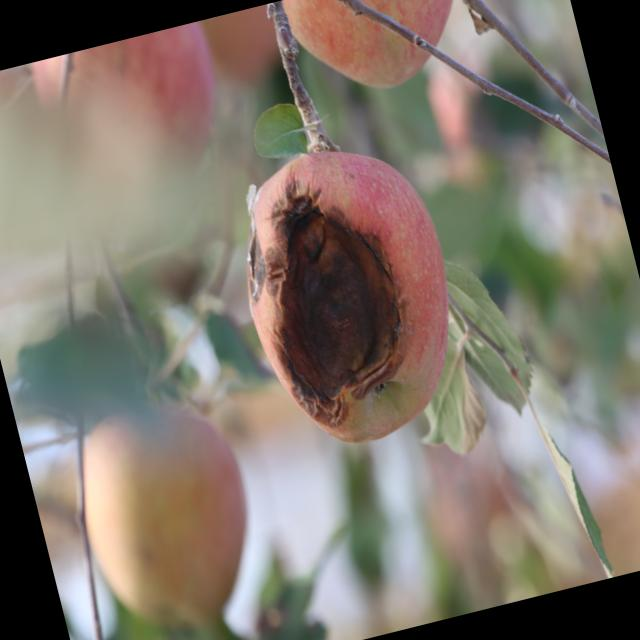rotten: (209, 116, 492, 476)
